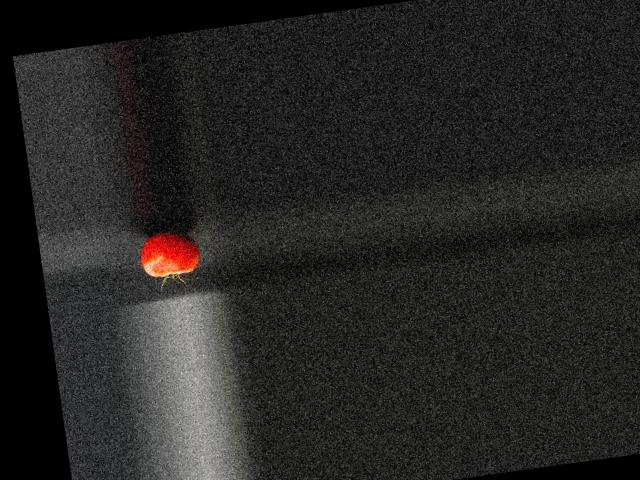tomato: (136, 227, 200, 279)
